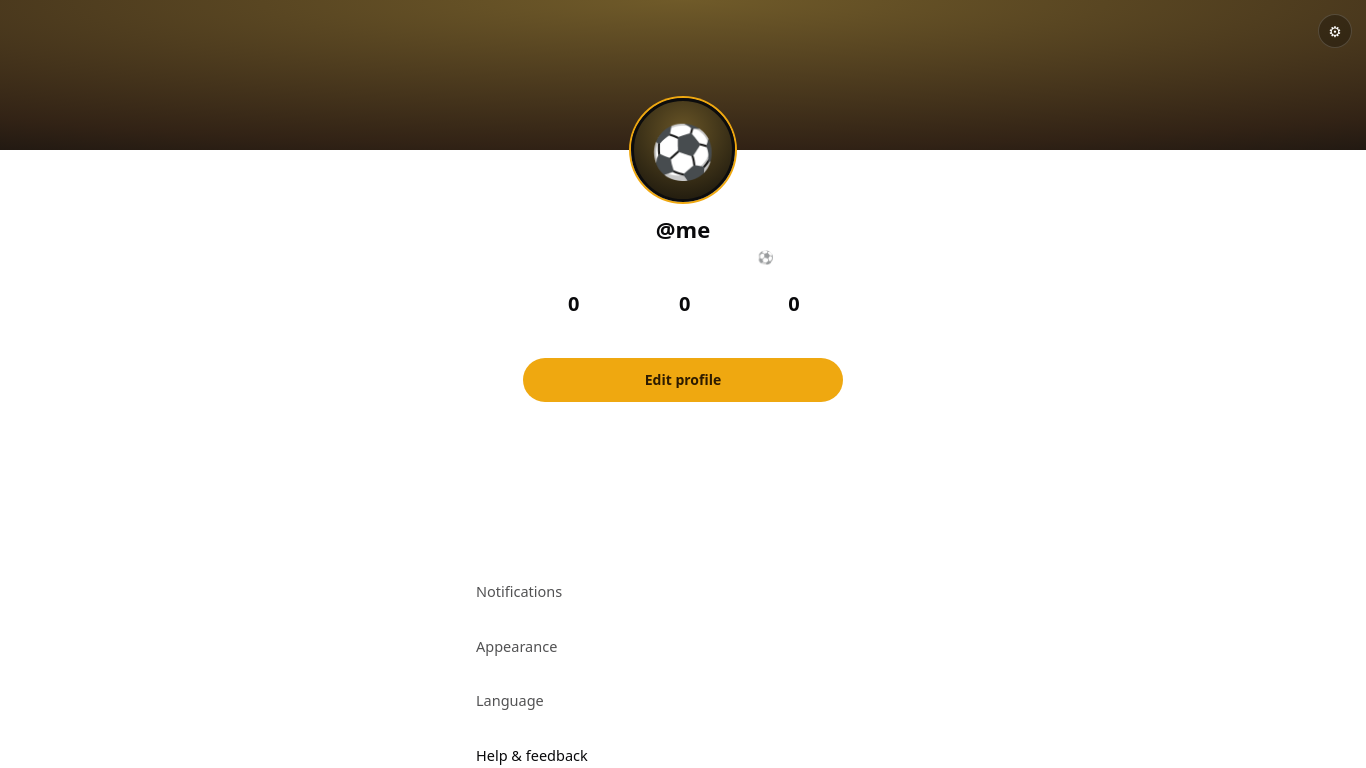
Scenario: MePage — guest vs authed › authed: surfaces a 409 HANDLE_TAKEN inline in the edit modal
Click the button "Edit profile" at (683, 380), box [523,358,843,402]
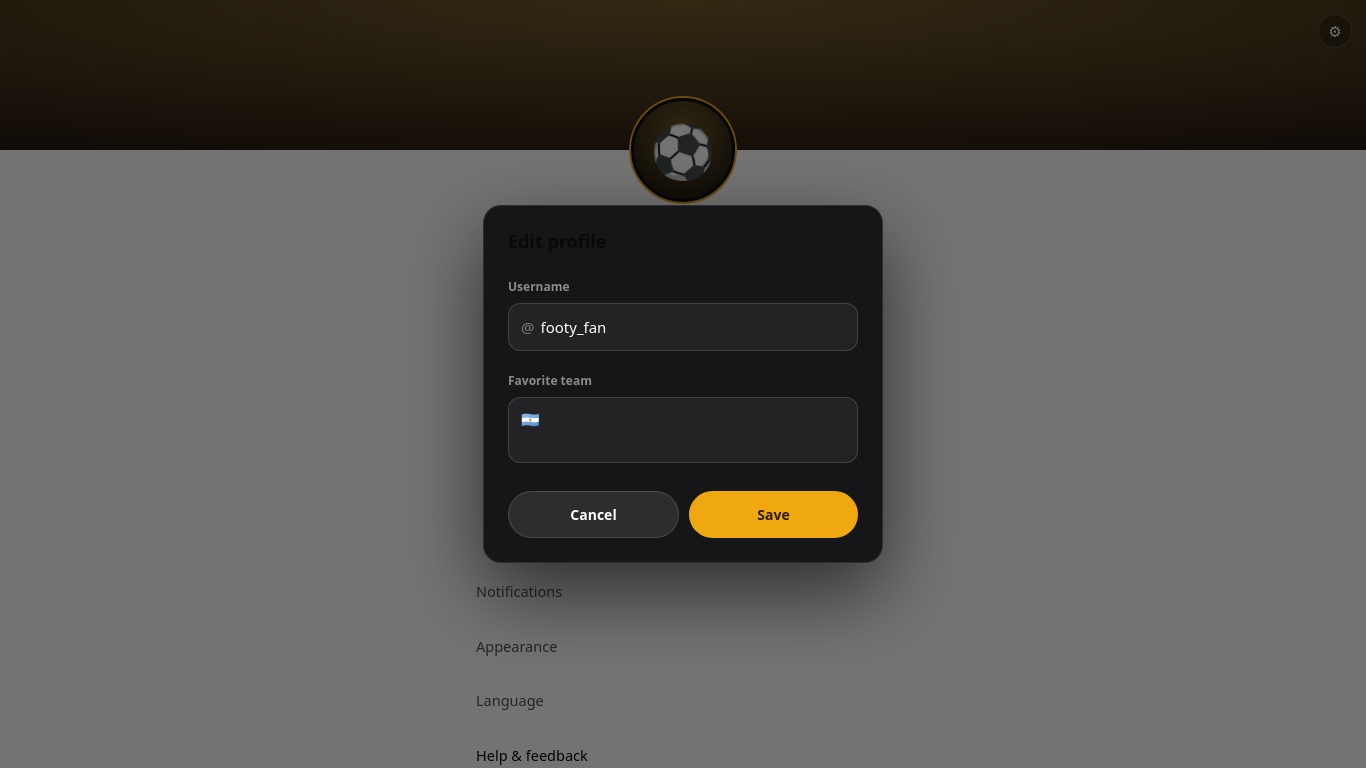
Replace the text in the field labelled "Username" with "taken_handle" at (693, 327), box [540,304,845,350]
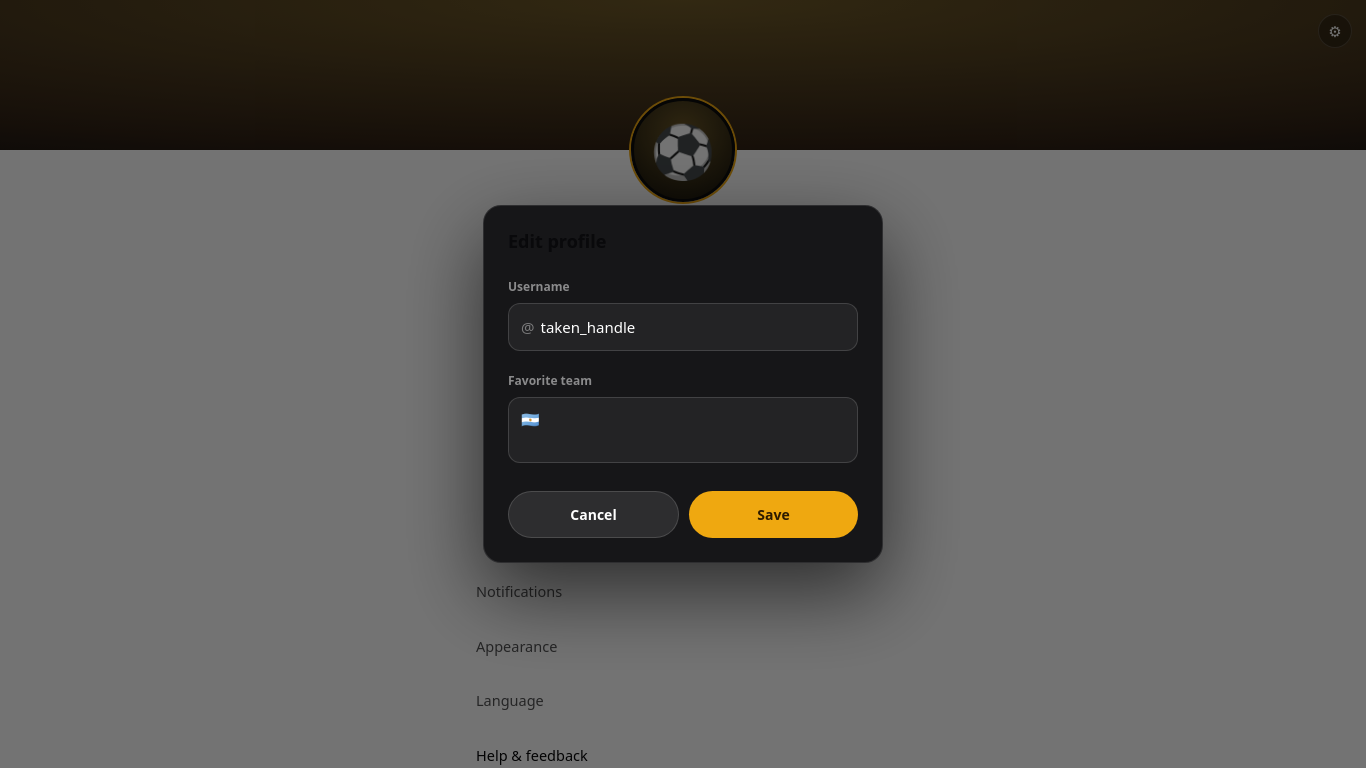
Click the button "Save" at (774, 514), box [689,491,858,538]
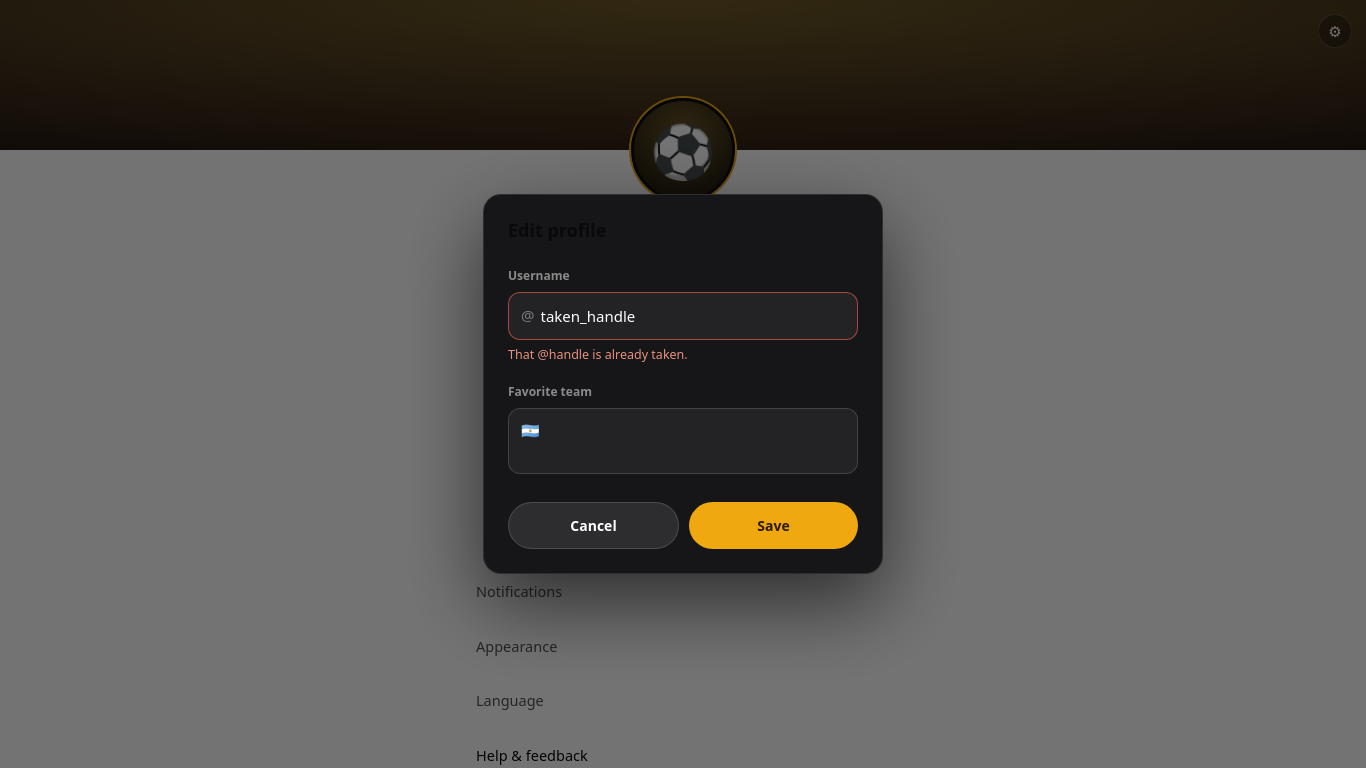
Expected: the text "That @handle is already taken." is shown, [508,346,688,363]
